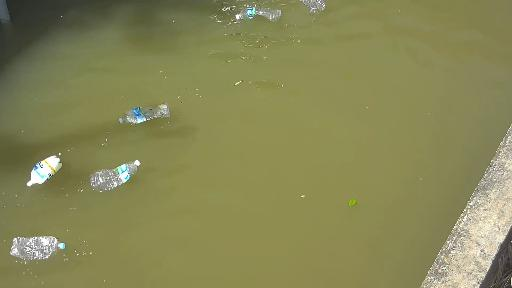leaf: (344, 193, 360, 209)
plastic: (0, 221, 79, 269), (16, 132, 77, 194), (84, 149, 146, 197), (116, 93, 181, 131), (235, 1, 282, 36), (280, 0, 328, 32)
